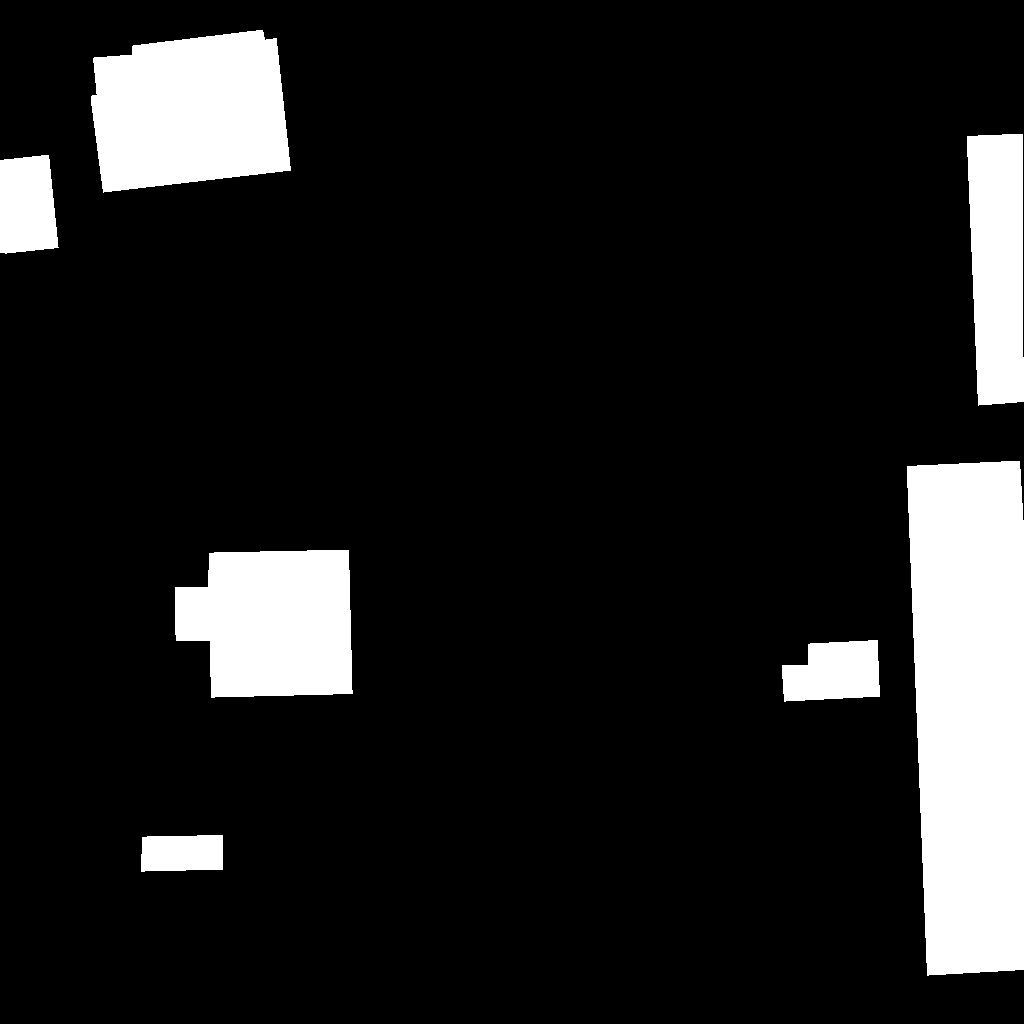building: (907, 461, 1024, 976), (91, 30, 292, 193), (175, 550, 353, 698), (967, 134, 1024, 406), (782, 640, 881, 702), (0, 155, 59, 254), (141, 835, 224, 872)
